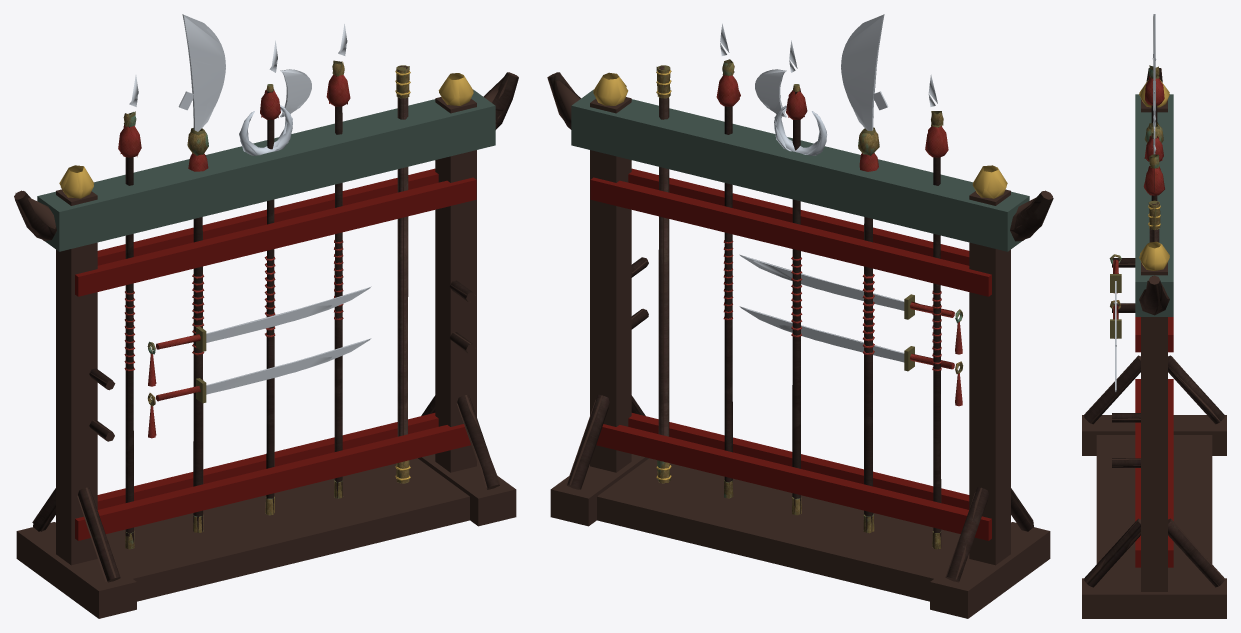
The model's file is prop_weapon_rack.gltf.
3 renders of one model, left to right at view 1: azimuth 30°, elevation 25°; view 2: azimuth 150°, elevation 25°; view 3: azimuth 270°, elevation 25°, orthographic. The views are drawn at different scales.
Visible parts, largest first — view 1: Far, Near; view 2: Far, Near; view 3: Far, Near.
Part boxes in pixels (box(x1,y1,x2,y2)): Far: box(14, 14, 518, 618); Near: box(15, 15, 518, 581); Far: box(547, 14, 1053, 618); Near: box(548, 15, 1051, 581); Far: box(1082, 14, 1226, 618); Near: box(1084, 14, 1224, 587).
Bounding box in the file's own units: 2.66 × 2.74 × 0.75.
Materials: 10 (6 with a texture image).
